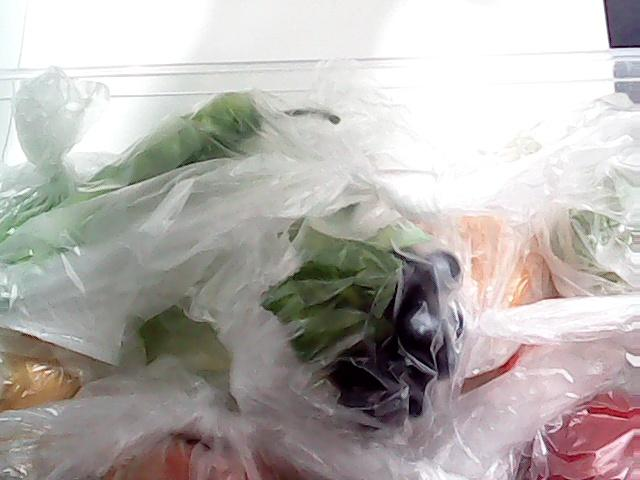apple: (499, 359, 640, 480)
cabbage: (0, 163, 94, 253)
carrot: (488, 302, 580, 382)
grape: (304, 233, 456, 433)
lemon: (437, 189, 548, 319)
napa cabbage: (110, 300, 278, 420)
peach: (112, 434, 308, 480)
pepper: (1, 88, 268, 292)
potato: (0, 327, 88, 423)
